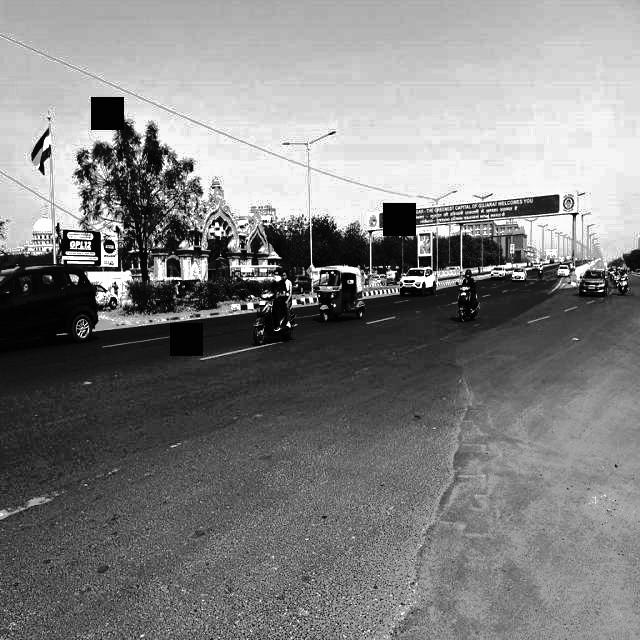Auto-Rickshaw: (311, 261, 371, 329), (385, 267, 398, 283)
